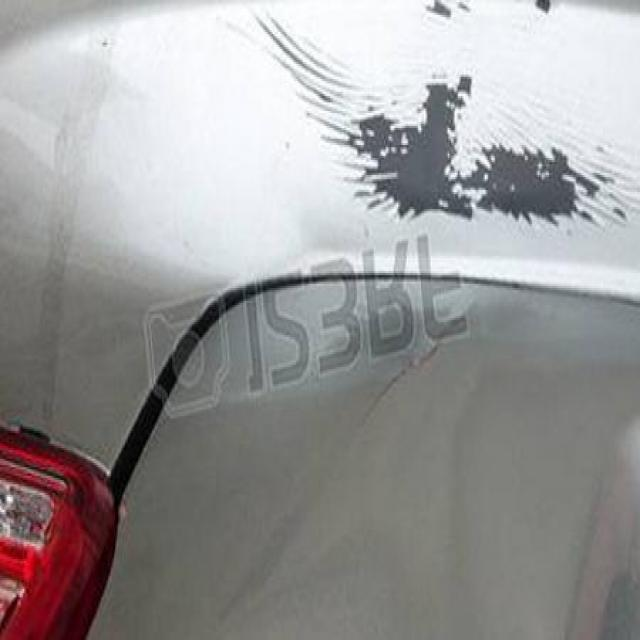scratch: (250, 20, 620, 255)
